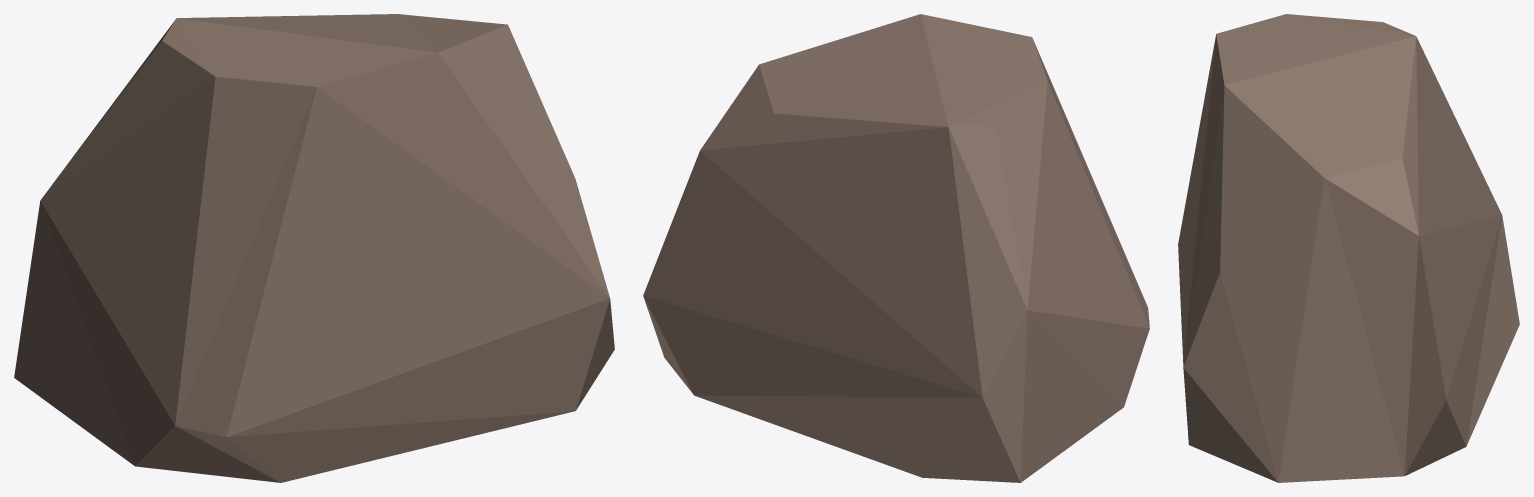
Rendered from TB_Env_Rock4_D.FBX.
3 views of the same model, side by side, from view 1: azimuth 30°, elevation 25°; view 2: azimuth 150°, elevation 25°; view 3: azimuth 270°, elevation 25° (orthographic). The views are drawn at different scales.
Visible parts, largest first — view 1: TB_Env_Rock4_D; view 2: TB_Env_Rock4_D; view 3: TB_Env_Rock4_D.
Boxes of the visible parts, x1=… form: TB_Env_Rock4_D: x1=14, y1=14, x2=614, y2=482; TB_Env_Rock4_D: x1=643, y1=14, x2=1149, y2=482; TB_Env_Rock4_D: x1=1178, y1=14, x2=1519, y2=482.
Size of the model in its own units: 1.52 by 1.13 by 1.12.
